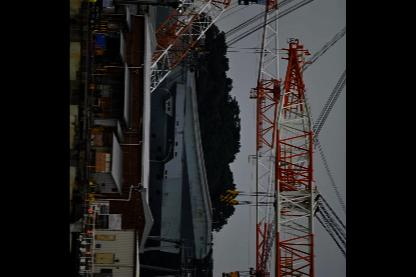F22: (194, 26, 210, 79)
